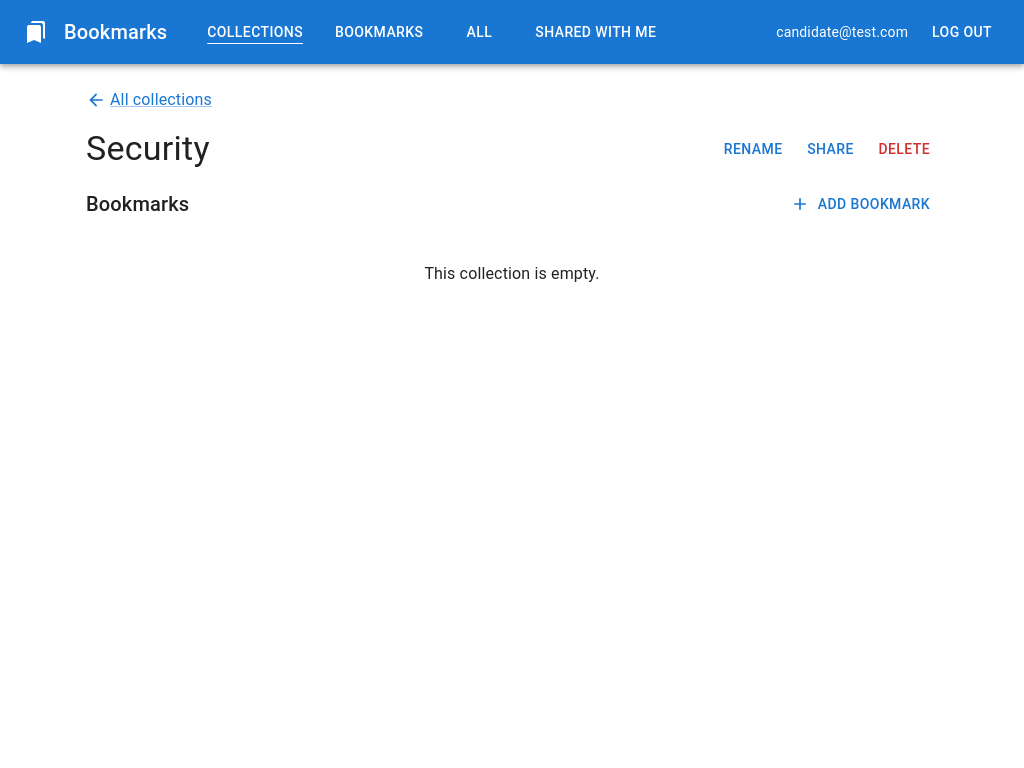
ShareDialog (ADR-019b/c/d) › recipient_not_found → friendly message, nothing added to the list
Click the button "Share": coordinates (830, 149) [798, 131, 862, 167]
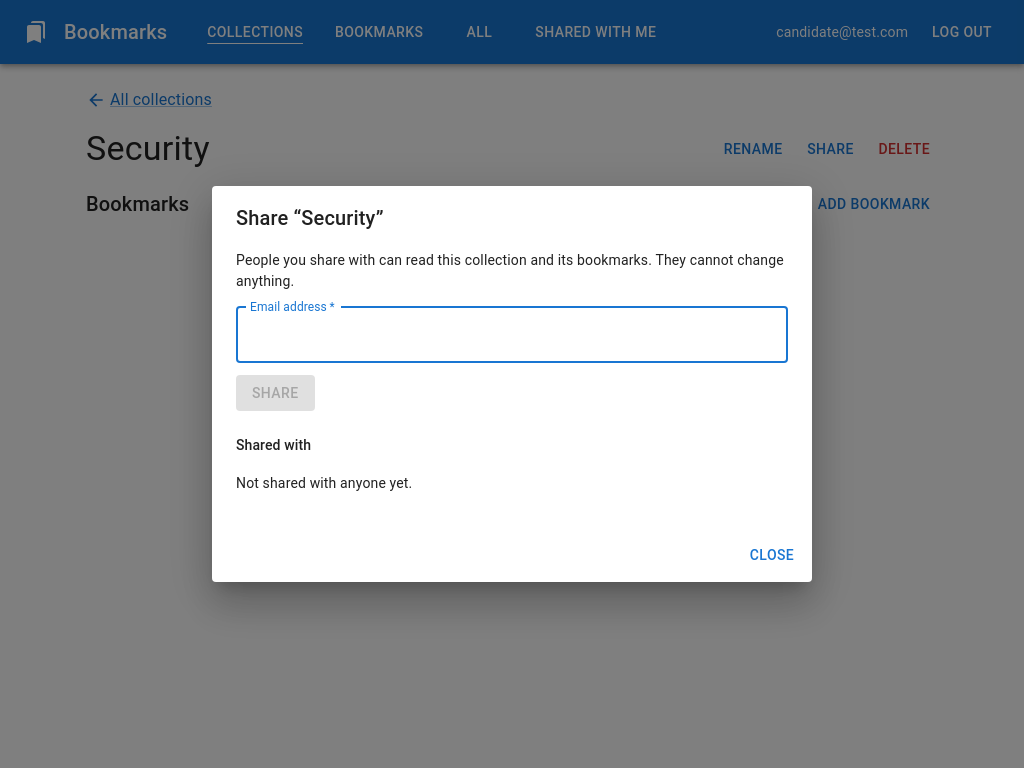
In the field labelled "Email address *": coordinates (512, 334) [236, 306, 788, 362], type "someone@example.com"
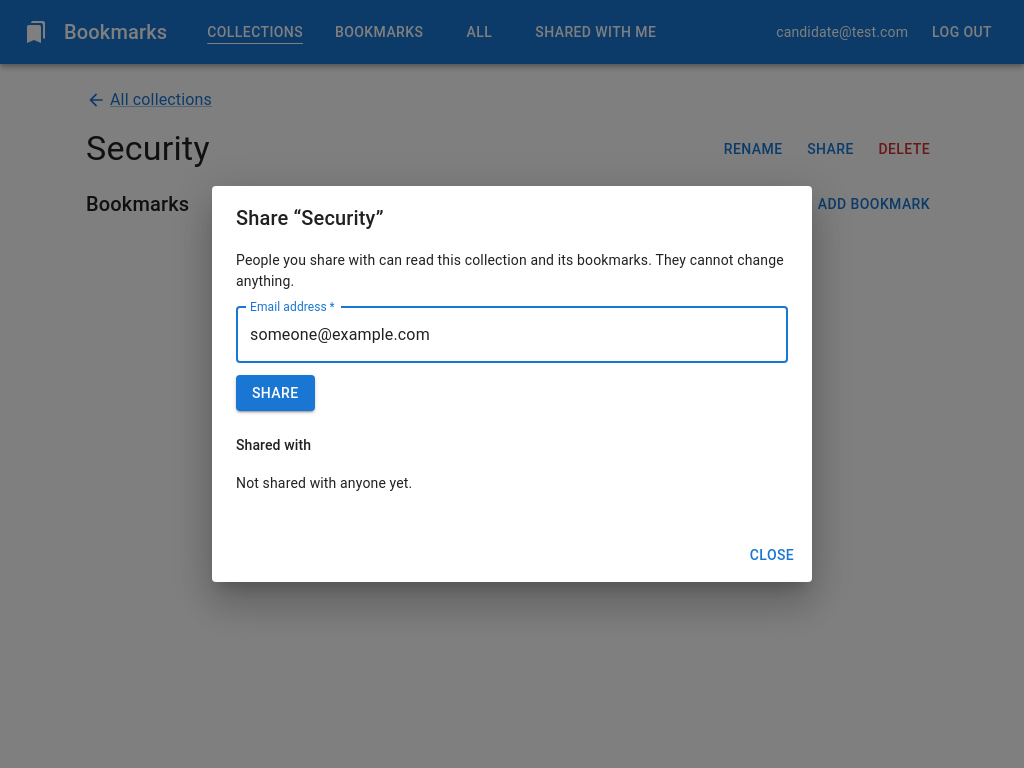
Click the button "Share": coordinates (275, 393) [236, 374, 314, 411]
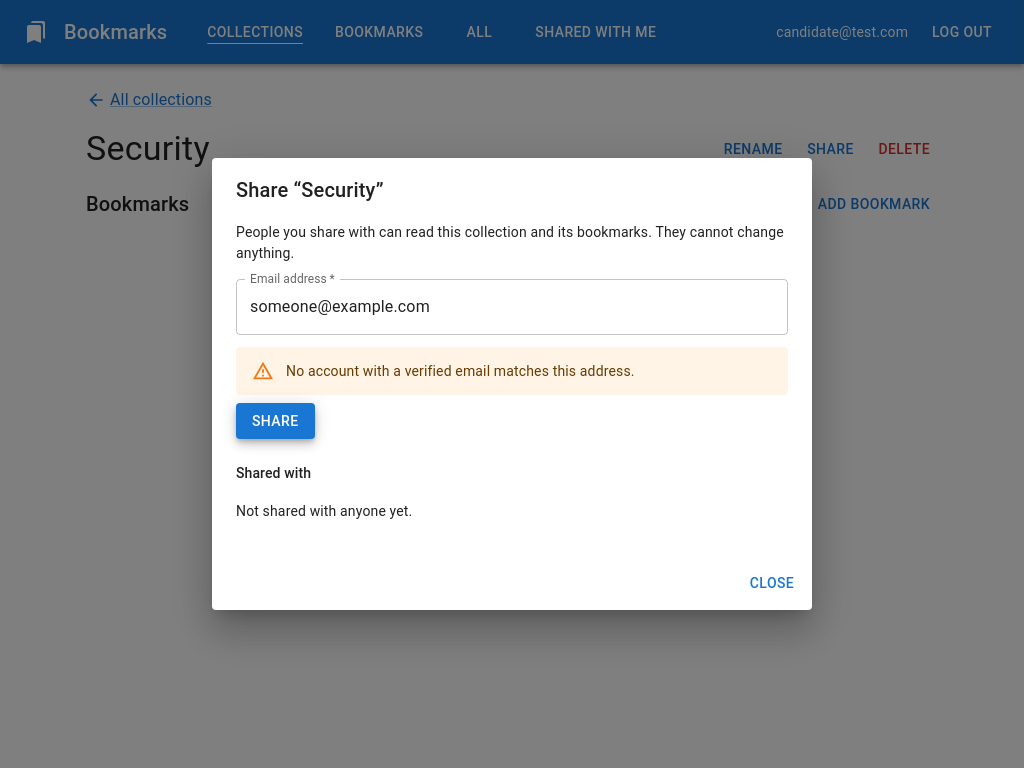
Result: the text "Not shared with anyone yet." is shown at [236, 503, 412, 519]
Result: the text "No account with a verified email matches this address." is shown at [286, 362, 635, 378]
